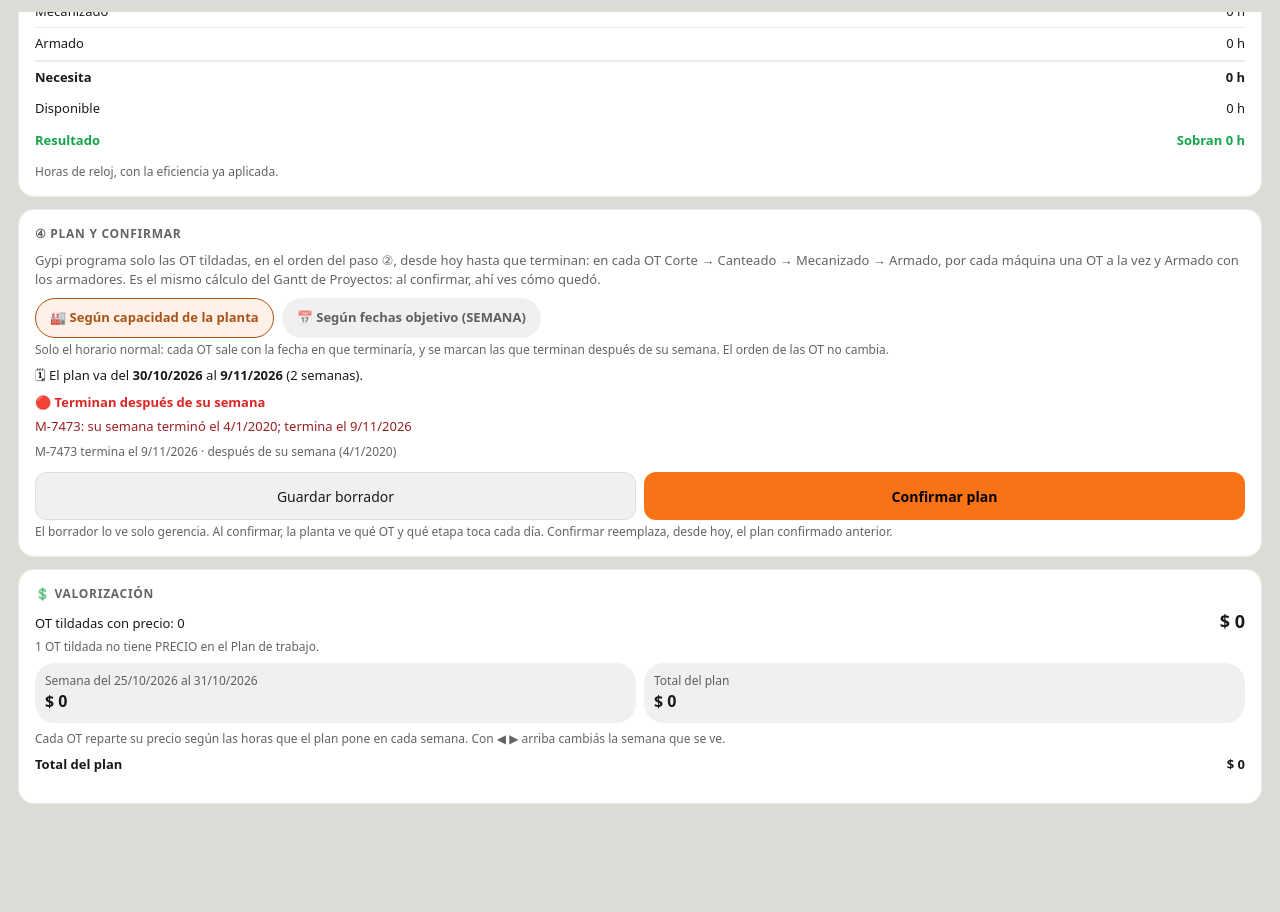
Test: 📊 Carga — guardar borrador y confirmar el plan del período
Click the button "Guardar borrador" at x=336, y=496, box [35,472,636,520]
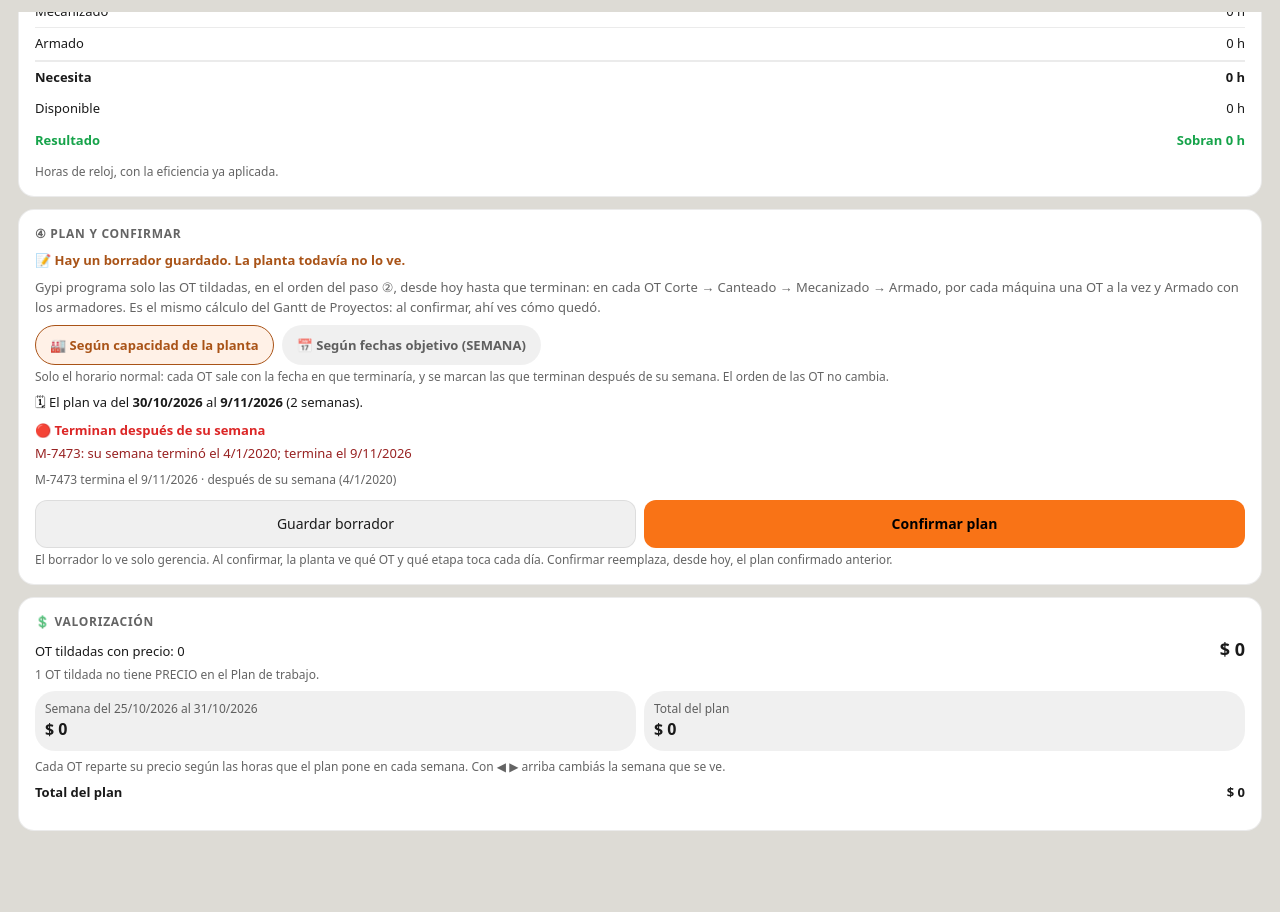
Check: the text "📝 Hay un borrador guardado. La planta todavía no lo ve." is shown, box [35,251,405,269]
Click the button "Confirmar plan" at x=944, y=524, box [644,500,1245,548]
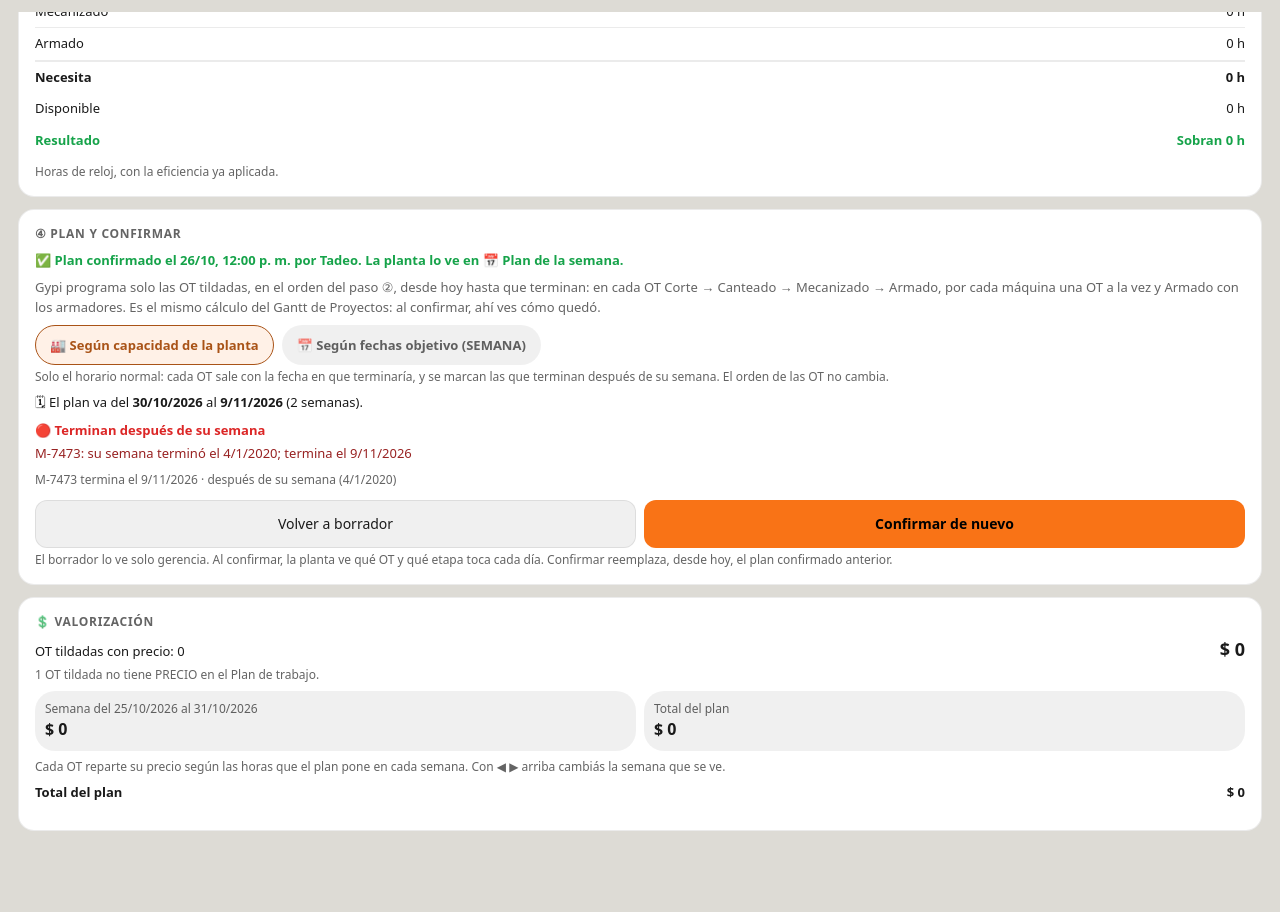
Check: the button "Confirmar de nuevo" is shown, box [644,500,1245,548]
